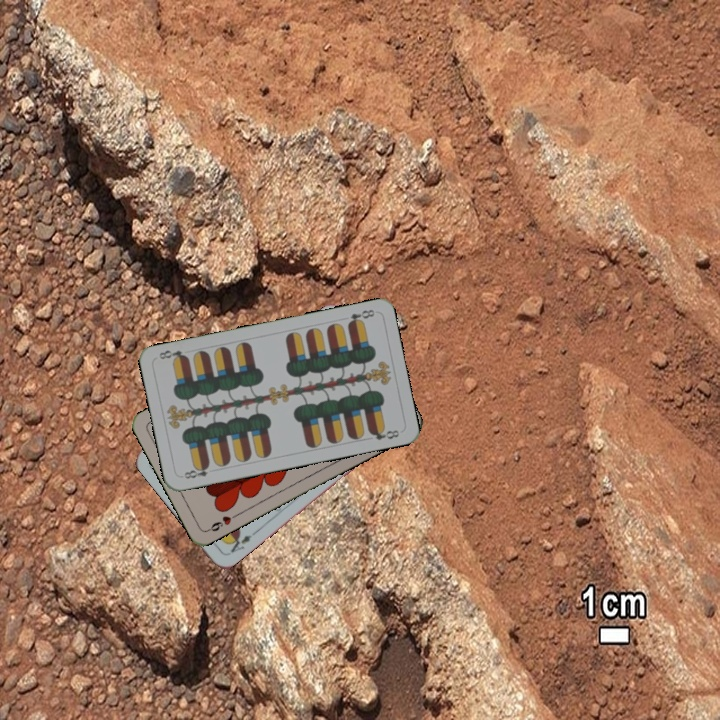E8: (343, 305, 377, 328), (178, 461, 212, 481)
EA: (223, 528, 258, 555)
H9: (203, 510, 241, 534)
